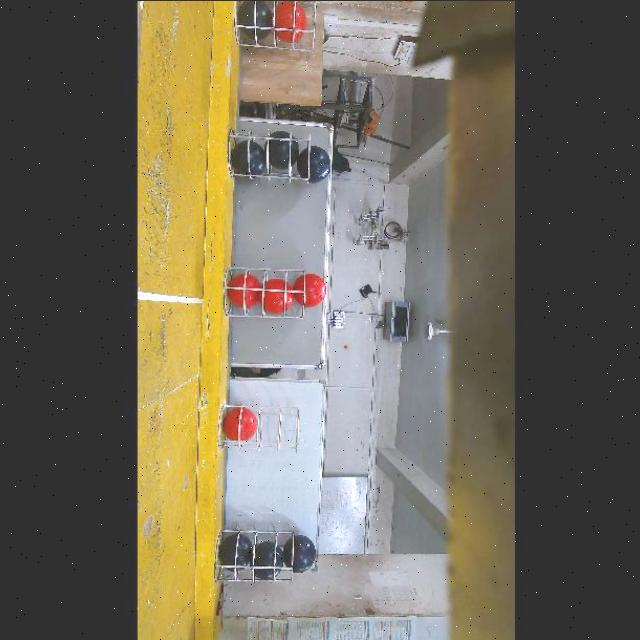P: (218, 531, 254, 572), (236, 0, 273, 39), (283, 531, 316, 571), (231, 139, 267, 175), (297, 145, 331, 183), (266, 130, 299, 168), (253, 541, 284, 580)
R: (259, 277, 295, 314), (275, 0, 306, 42), (222, 407, 258, 440), (293, 272, 326, 307), (228, 273, 261, 307)
S: (213, 524, 293, 586), (228, 0, 318, 54), (230, 122, 308, 184), (215, 398, 298, 456), (223, 268, 300, 314)
